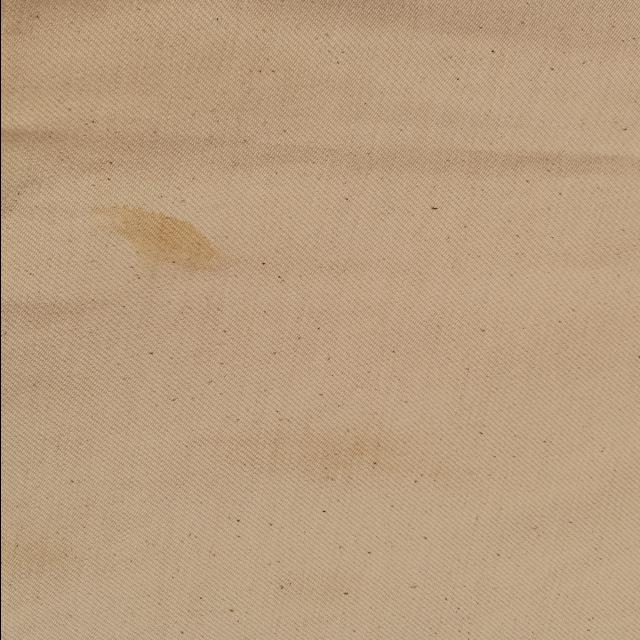taaaches: (87, 202, 239, 274)
